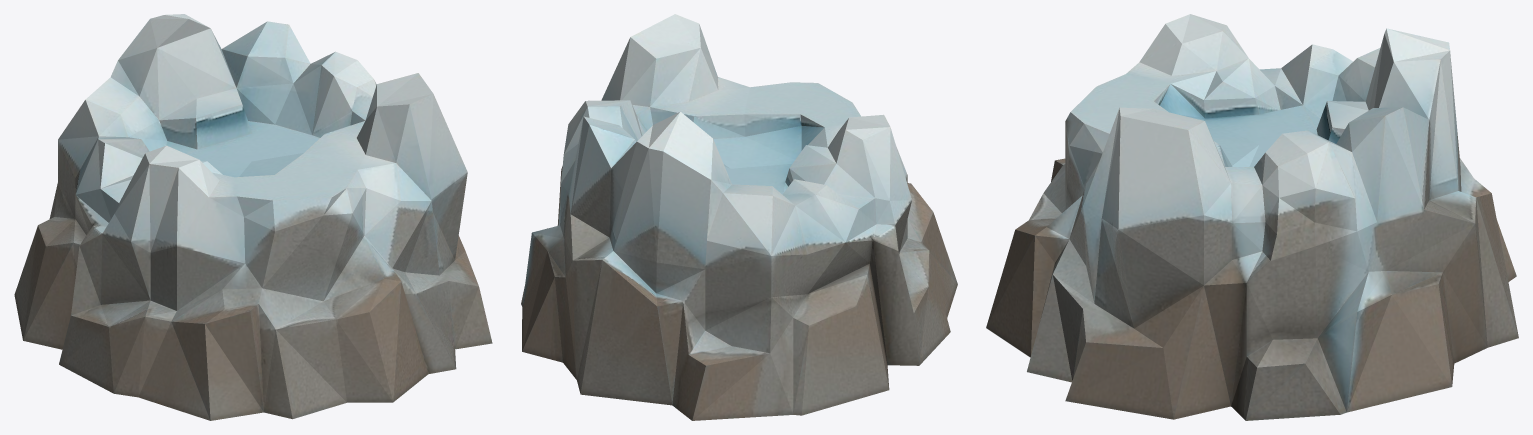
The model's file is rock_ice.glb.
3 views of the same model, side by side, from view 1: azimuth 30°, elevation 25°; view 2: azimuth 150°, elevation 25°; view 3: azimuth 270°, elevation 25° (orthographic). The views are drawn at different scales.
Parts seen in each view (by area): view 1: tripo_node_c9ba51b1-866d-41b7-b740-aae0540f339c; view 2: tripo_node_c9ba51b1-866d-41b7-b740-aae0540f339c; view 3: tripo_node_c9ba51b1-866d-41b7-b740-aae0540f339c.
Part boxes in pixels (bbox=[...]): tripo_node_c9ba51b1-866d-41b7-b740-aae0540f339c: bbox=[14, 14, 492, 420]; tripo_node_c9ba51b1-866d-41b7-b740-aae0540f339c: bbox=[521, 14, 957, 420]; tripo_node_c9ba51b1-866d-41b7-b740-aae0540f339c: bbox=[986, 14, 1518, 420].
Bounding box in the file's own units: 0.9277 × 0.5918 × 0.998.
1 material, 1 textured.
